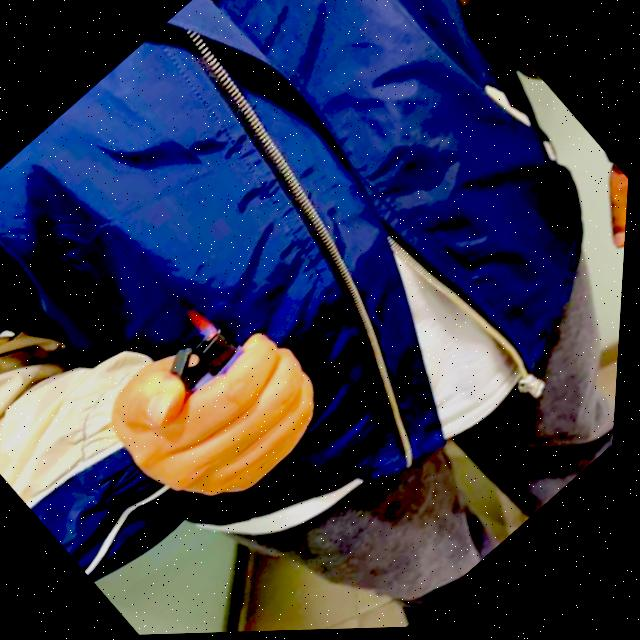Fire: (183, 302, 226, 345)
